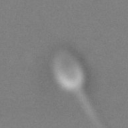normal: (73, 88, 109, 128)
